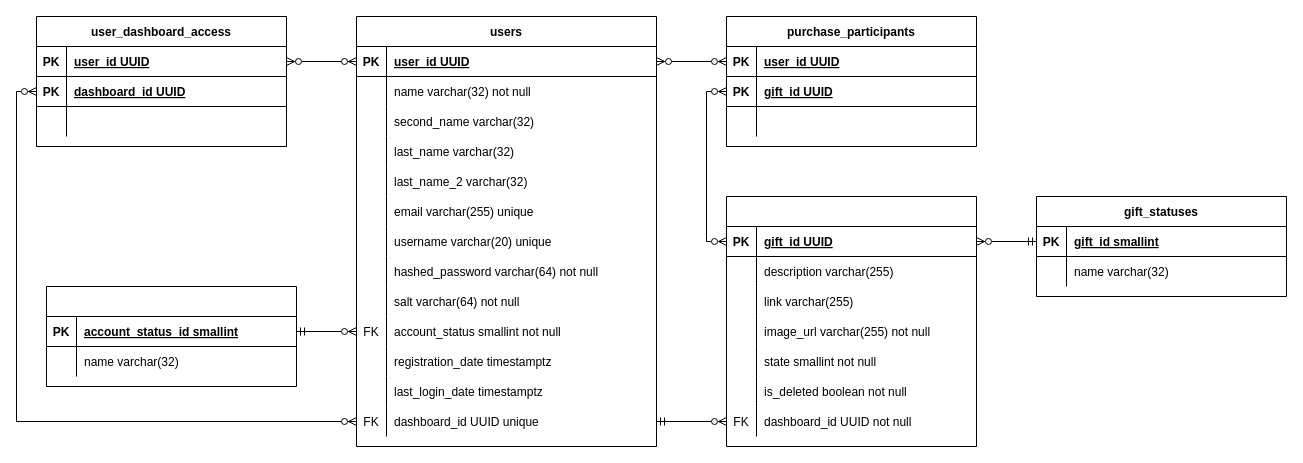
This 1303x463 diagram has some shape labels left out. Here are the shapes that lost their labels. From the top down, the box of each, then its label:
(46, 286, 296, 386): account_statuses
(726, 196, 976, 446): gifts
